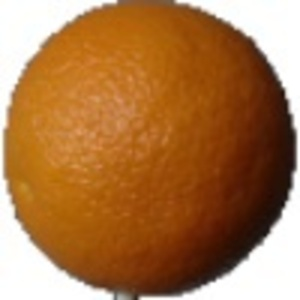laranja: (5, 3, 300, 297)
